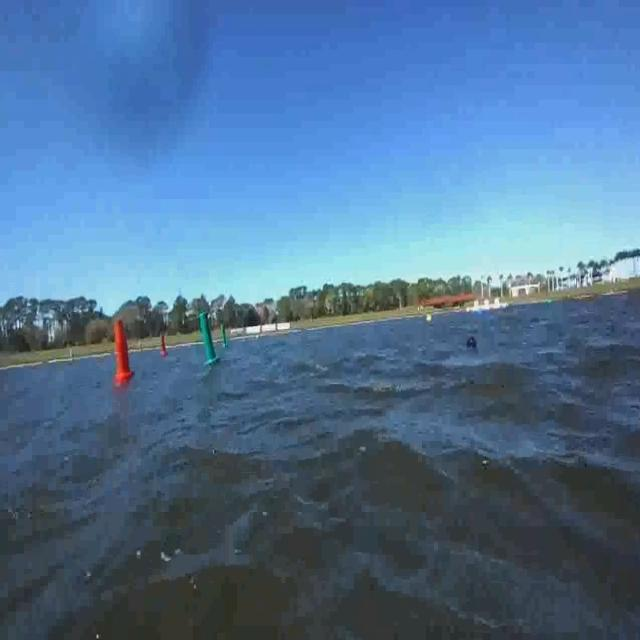black-buoy: (468, 334, 479, 352)
green-column-buoy: (198, 312, 222, 366), (220, 325, 228, 347)
red-column-buoy: (115, 318, 135, 382), (161, 334, 169, 358)
yellow-buoy: (426, 313, 433, 325)
